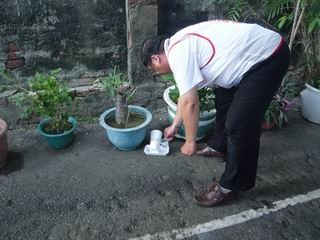bottle: (148, 130, 163, 151)
plate: (143, 142, 170, 155)
